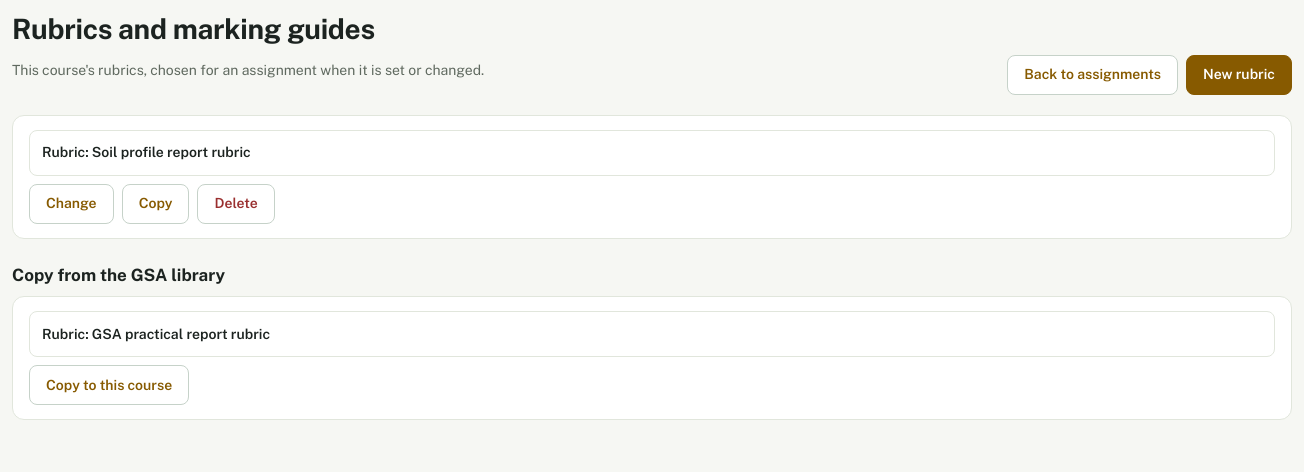
Test: rubrics and marking guides (items 3.09, 3.10) › deletes a rubric after asking, and says why one could not go
The image size is (1304, 472).
Click the button "Delete": (236, 204) [198,184,275,224]
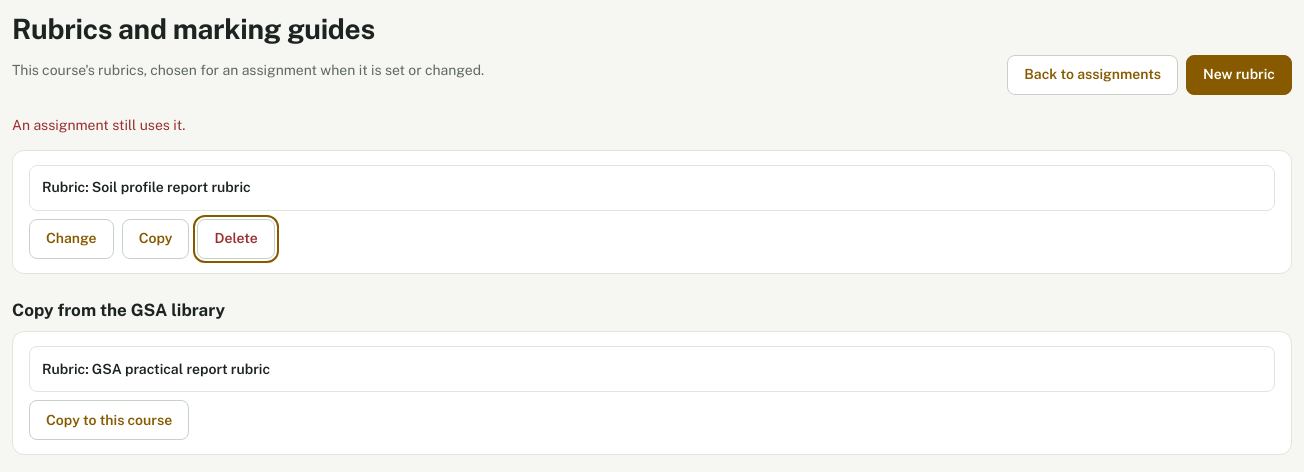
Expected: the message reads "An assignment still uses it.", [12,117,185,133]
